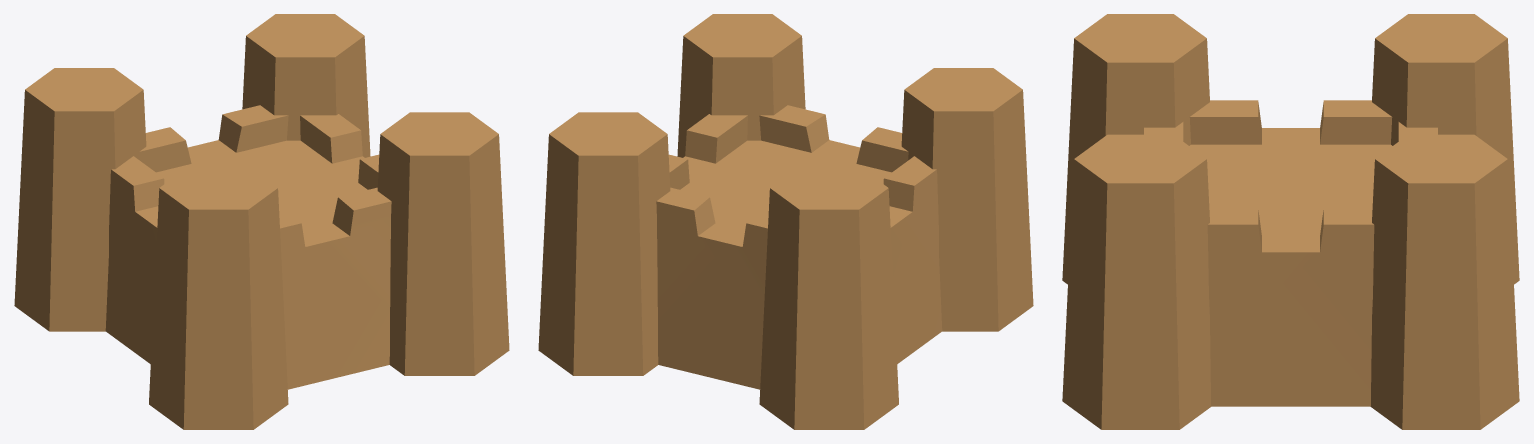
Rendered from beach_sand-castle.fbx.
3 renders of one model, left to right at view 1: azimuth 30°, elevation 25°; view 2: azimuth 150°, elevation 25°; view 3: azimuth 270°, elevation 25°, orthographic. The views are drawn at different scales.
Visible parts, largest first — view 1: beach_sand_castle; view 2: beach_sand_castle; view 3: beach_sand_castle.
Part boxes in pixels (x1=…): beach_sand_castle: x1=14, y1=14, x2=509, y2=429; beach_sand_castle: x1=538, y1=14, x2=1033, y2=429; beach_sand_castle: x1=1062, y1=14, x2=1519, y2=429.
Bounding box in the file's own units: 184 × 117 × 200.
